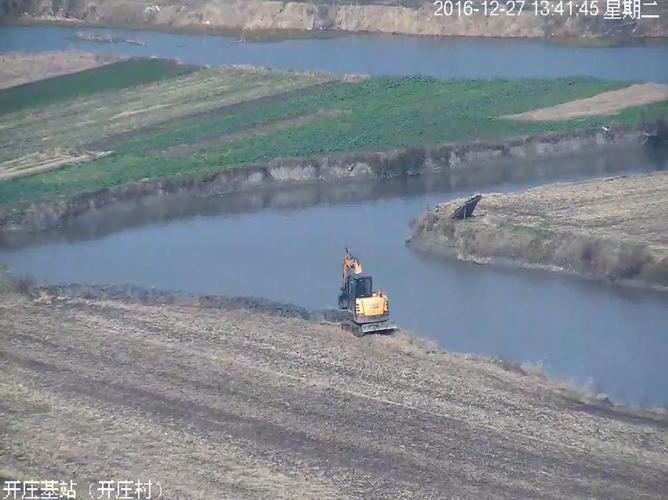digger: (331, 240, 395, 341)
